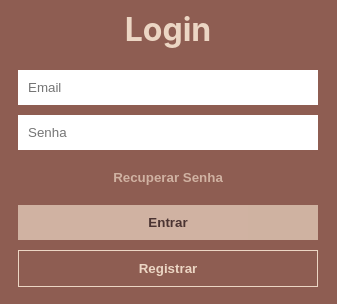
it: Login › given form valid, then enable login button
In the field with test id "email": (168, 88) 18,70 -> 318,105, type "valid@email.com"
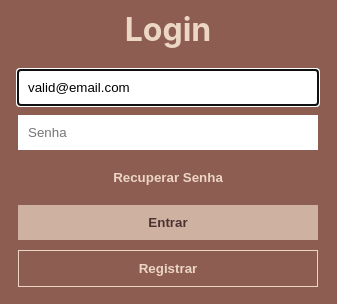
In the password field with test id "password": (168, 133) 18,115 -> 318,150, type "anyValue"
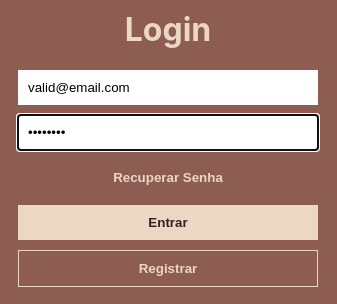
Expected: the button with test id "login-button" is enabled, 18,205 -> 318,240
